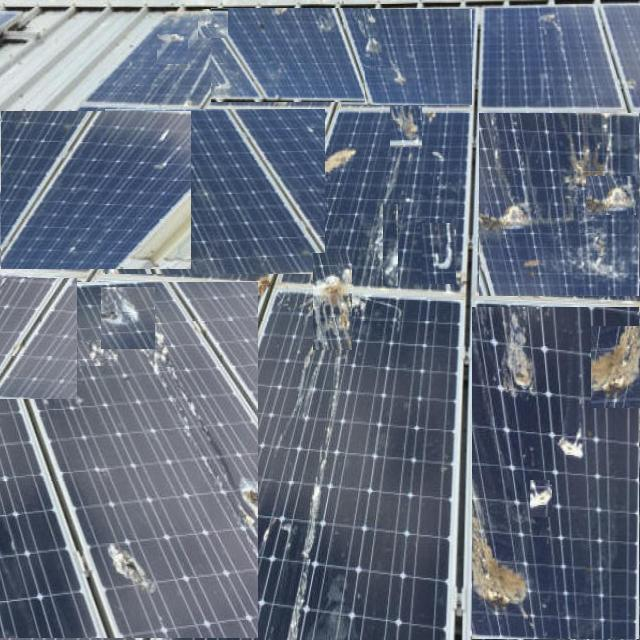Bird-drop: (472, 307, 640, 640), (591, 327, 640, 409), (313, 253, 352, 350), (102, 287, 156, 349), (579, 556, 621, 626), (508, 219, 558, 269), (501, 124, 539, 184), (422, 223, 456, 284), (587, 176, 637, 215), (123, 525, 153, 583), (390, 106, 422, 147), (383, 204, 398, 286), (109, 296, 131, 349), (78, 340, 118, 366), (157, 34, 188, 64), (199, 9, 229, 38), (530, 480, 552, 517), (328, 142, 346, 170), (364, 38, 382, 66)
